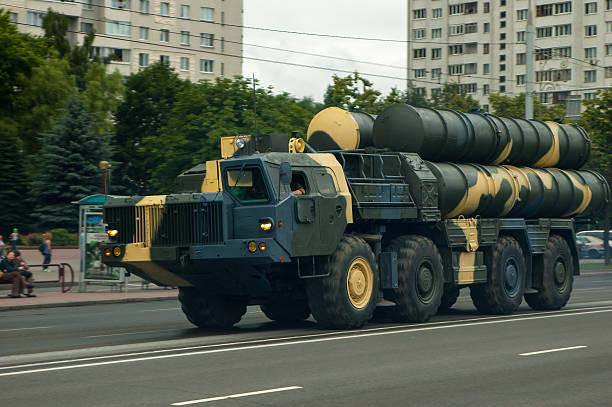MIL_SAM_TEL: (101, 105, 610, 343)
